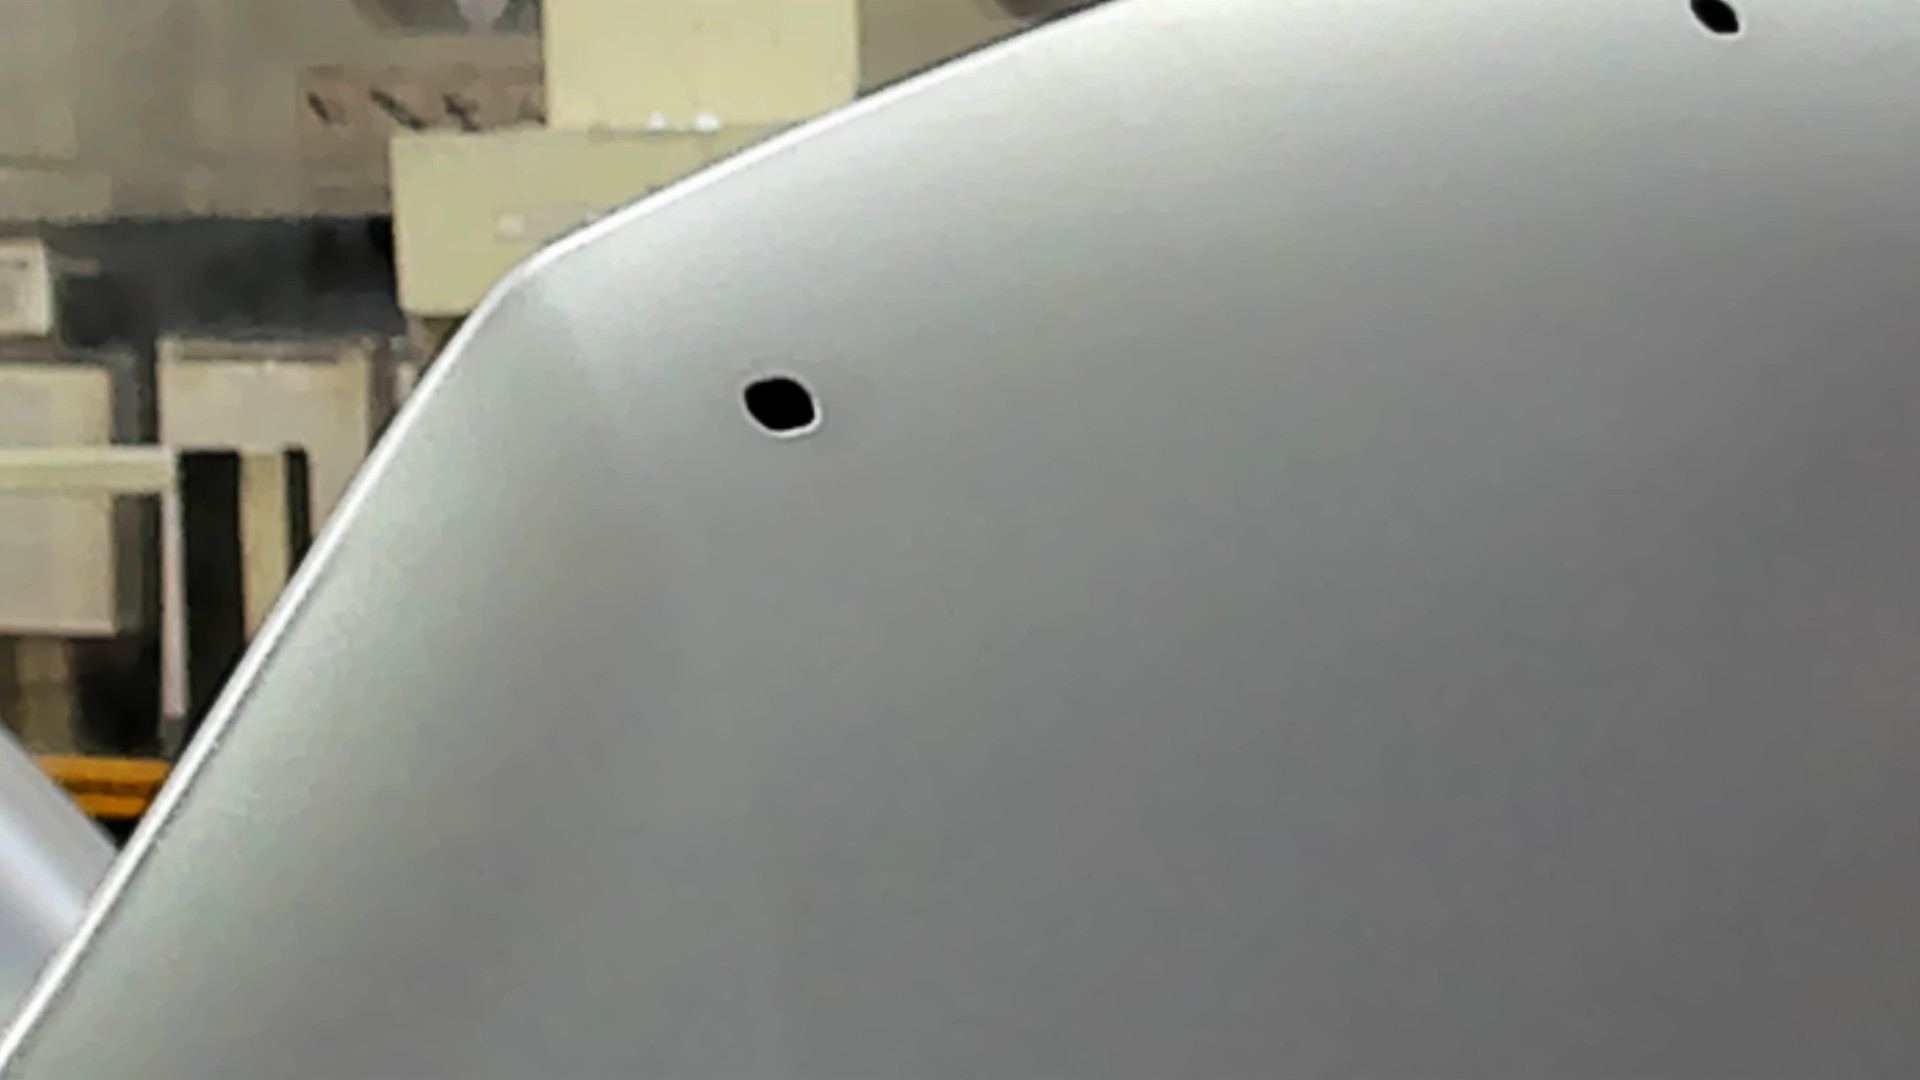amorfo: (733, 371, 829, 442), (1677, 1, 1747, 44)
